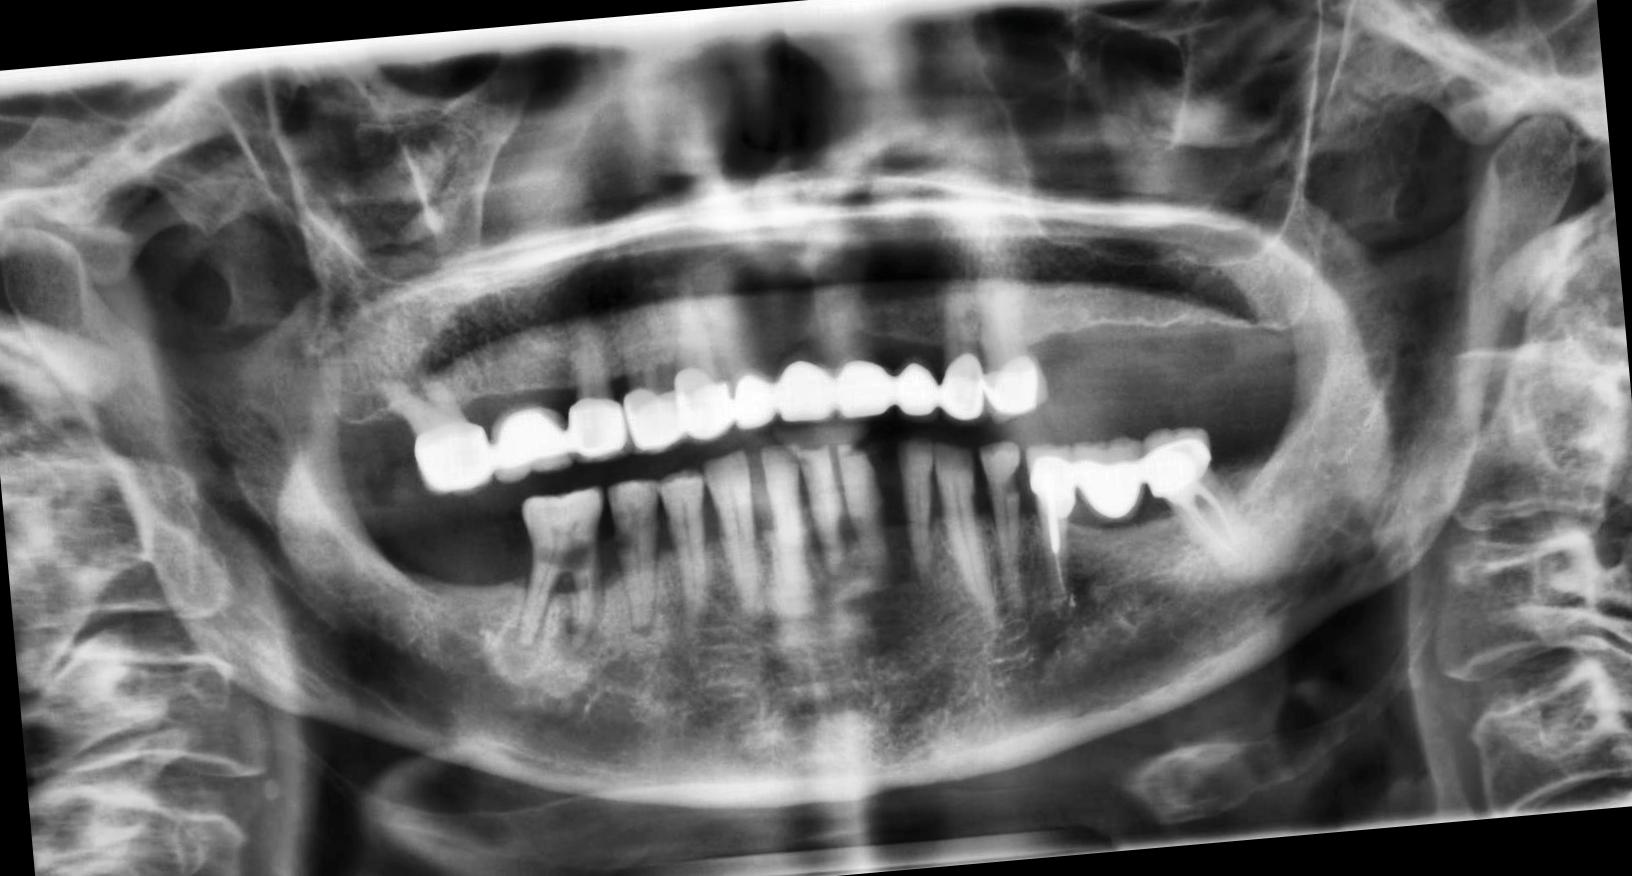radikuler: (548, 611, 609, 675), (494, 617, 548, 688)
